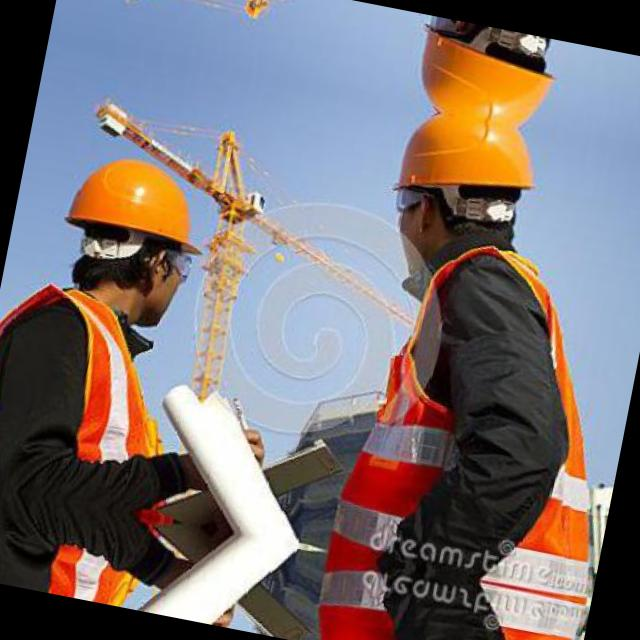helmet: (37, 127, 221, 335), (362, 104, 546, 294), (393, 12, 565, 136)
